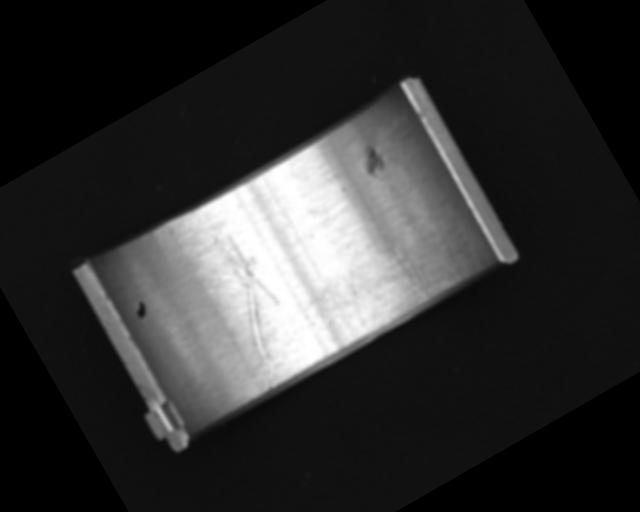blot: (129, 297, 151, 321)
bruise: (356, 143, 390, 179)
nick: (187, 223, 316, 391)
scratch: (311, 212, 456, 344)
